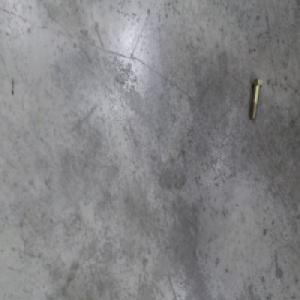Bolt: (248, 75, 261, 119)
